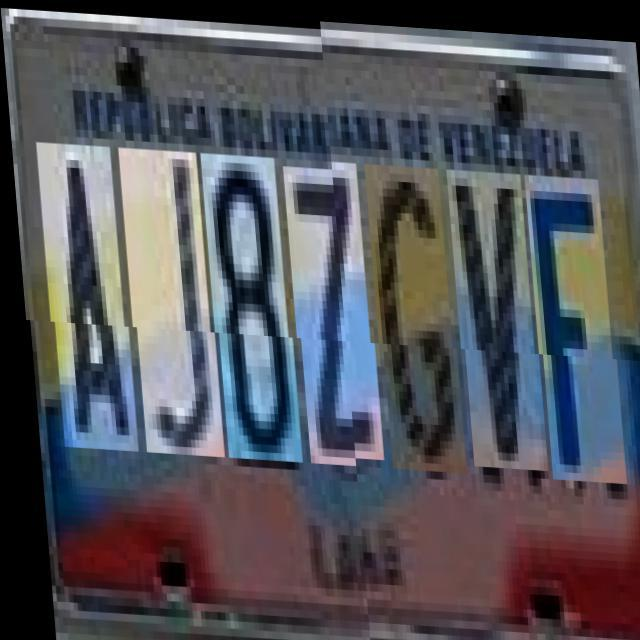8: (201, 150, 295, 458)
A: (37, 142, 131, 450)
F: (526, 176, 620, 484)
G: (366, 167, 461, 475)
J: (119, 146, 217, 455)
V: (448, 172, 542, 472)
Z: (284, 163, 378, 463)
